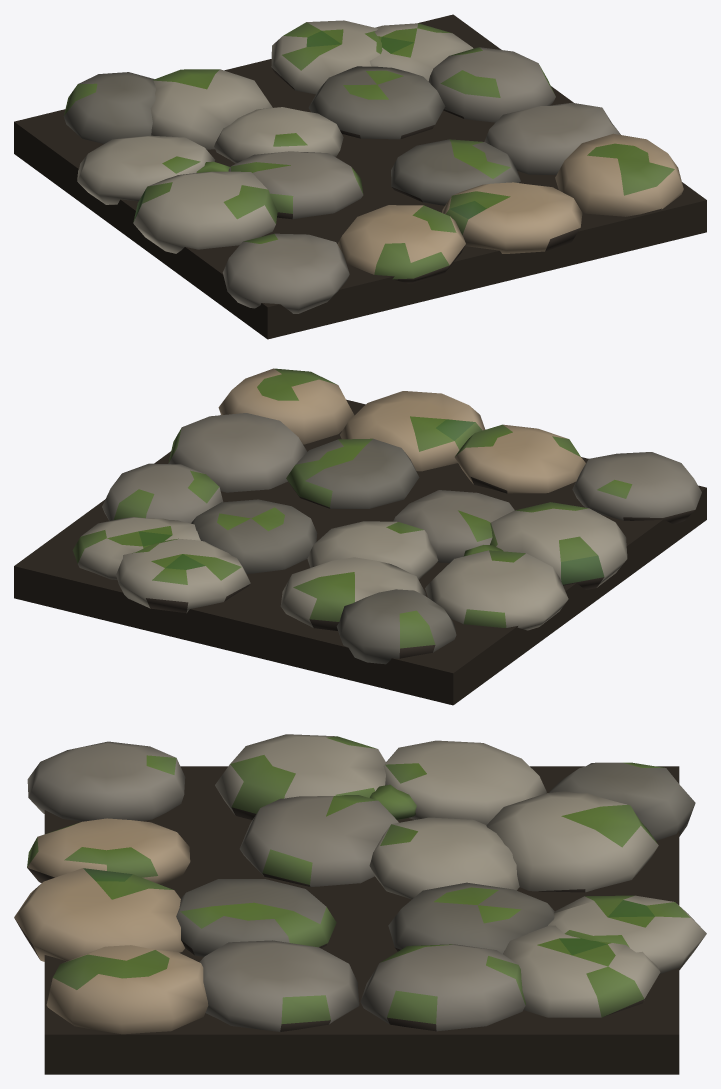
The model's file is kit_floor1.glb.
3 renders of one model, top to bottom at view 1: azimuth 30°, elevation 25°; view 2: azimuth 150°, elevation 25°; view 3: azimuth 270°, elevation 25°, orthographic. The views are drawn at different scales.
Visible parts, largest first — view 1: kit_floor1; view 2: kit_floor1; view 3: kit_floor1.
Part boxes in pixels (left/top/right/bottom): kit_floor1: left=14, top=14, right=706, bottom=339; kit_floor1: left=14, top=368, right=706, bottom=705; kit_floor1: left=14, top=734, right=706, bottom=1074.
Size of the model in its own units: 1.04 by 0.1407 by 1.09.
